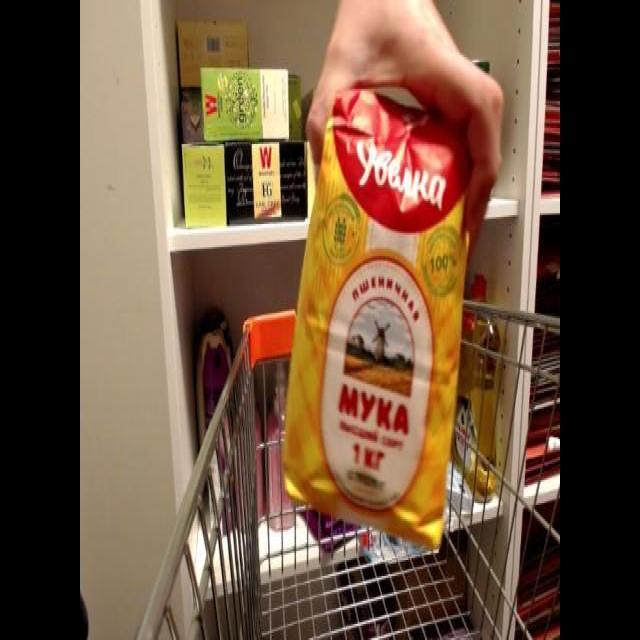Flour: (280, 80, 484, 553)
